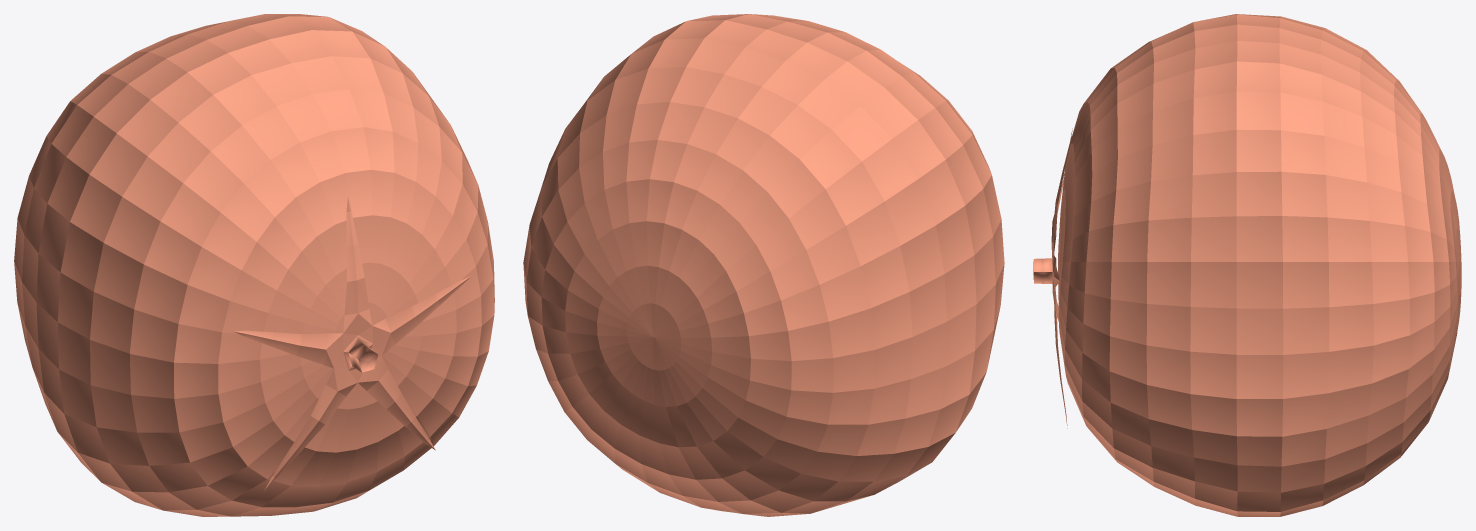
Rendered from MeshTomatoB9Mesh_0.obj.
3 renders of one model, left to right at view 1: azimuth 30°, elevation 25°; view 2: azimuth 150°, elevation 25°; view 3: azimuth 270°, elevation 25°, orthographic. The views are drawn at different scales.
Parts seen in each view (by area): view 1: TomatoB9Mesh; view 2: TomatoB9Mesh; view 3: TomatoB9Mesh.
Part boxes in pixels (x1,y1,x2,y2): TomatoB9Mesh: (14,14,494,516); TomatoB9Mesh: (523,14,1004,516); TomatoB9Mesh: (1033,14,1461,516).
Bounding box in the file's own units: 0.1127 × 0.122 × 0.1053.
